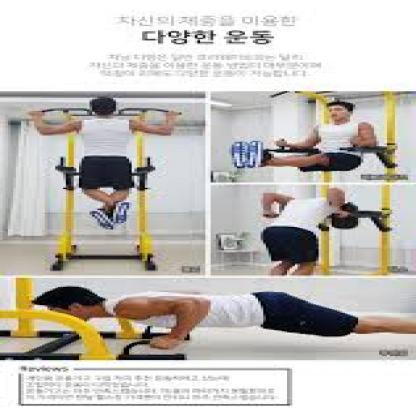chinning dipping: (26, 107, 185, 273)
